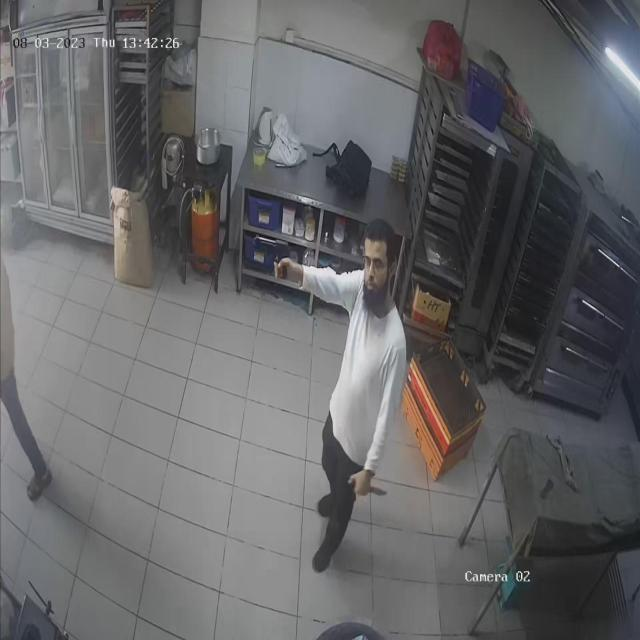Gun: (243, 225, 299, 287)
Knife: (340, 464, 410, 504)
